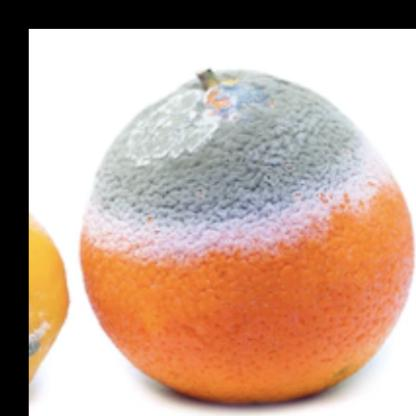rotten: (80, 71, 414, 405)
